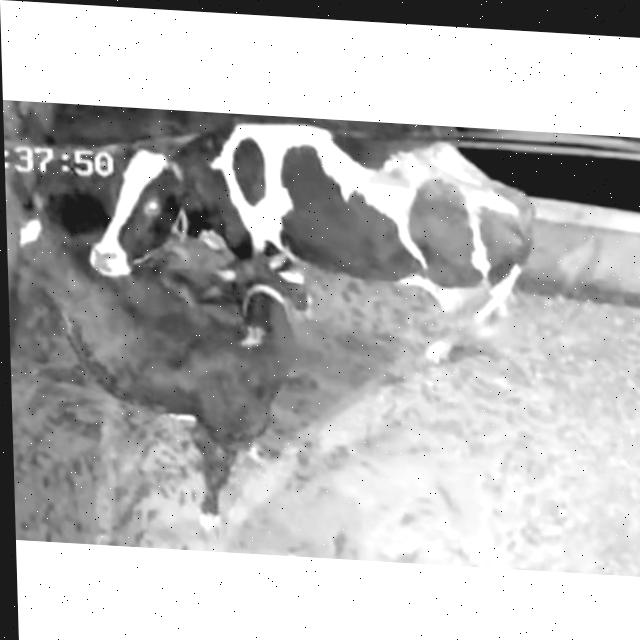propping: (62, 135, 214, 310)
